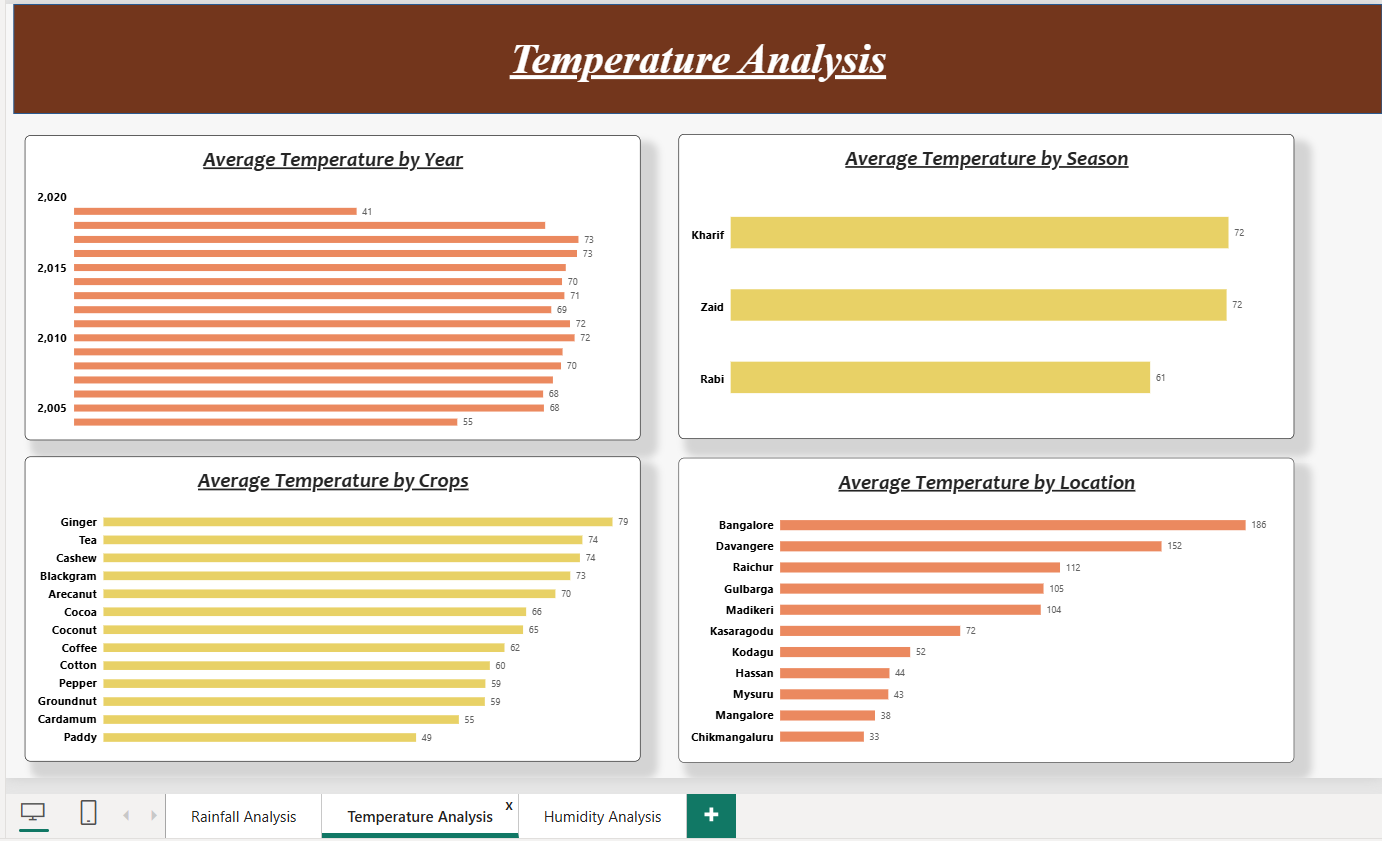

The page's visual inventory and layout, read from the dashboard file:
{"tool":"powerbi","page":{"name":"Temperature Analysis","canvas":[1920,1080],"ordinal":1},"visuals":[{"type":"shape","box":[10.5,0,1909.9,153.5],"z":0},{"type":"barChart","title":"Average Temperature by Year","fields":{"Category":["AGRICULTURE.YEAR"],"Y":["Avg(AGRICULTURE.TEMPERATURE)"]},"box":[25.4,183.1,859.3,425.4],"z":1000},{"type":"barChart","title":"Average Temperature by Season","fields":{"Category":["AGRICULTURE.SEASON"],"Y":["Avg(AGRICULTURE.TEMPERATURE)"]},"box":[939,181.4,859.3,425.4],"z":2000},{"type":"barChart","title":"Average Temperature by Crops","fields":{"Category":["AGRICULTURE.CROPS"],"Y":["Avg(AGRICULTURE.TEMPERATURE)"]},"box":[25.4,632.2,859.3,425.4],"z":3000},{"type":"barChart","title":"Average Temperature by Location","fields":{"Category":["AGRICULTURE.LOCATION"],"Y":["Avg(AGRICULTURE.TEMPERATURE)"]},"box":[939,633.9,859.3,425.4],"z":4000}]}

Visuals, with their boxes on the page's 1920x1080 design canvas (x1, y1, x2, y2). These are canvas units, not pixel positions in the 1382x841 screenshot, which may show the page scaled, cropped or inside an application window:
shape: Rect(10, 0, 1920, 154)
"Average Temperature by Year" barChart: Rect(25, 183, 885, 608)
"Average Temperature by Season" barChart: Rect(939, 181, 1798, 607)
"Average Temperature by Crops" barChart: Rect(25, 632, 885, 1058)
"Average Temperature by Location" barChart: Rect(939, 634, 1798, 1059)
